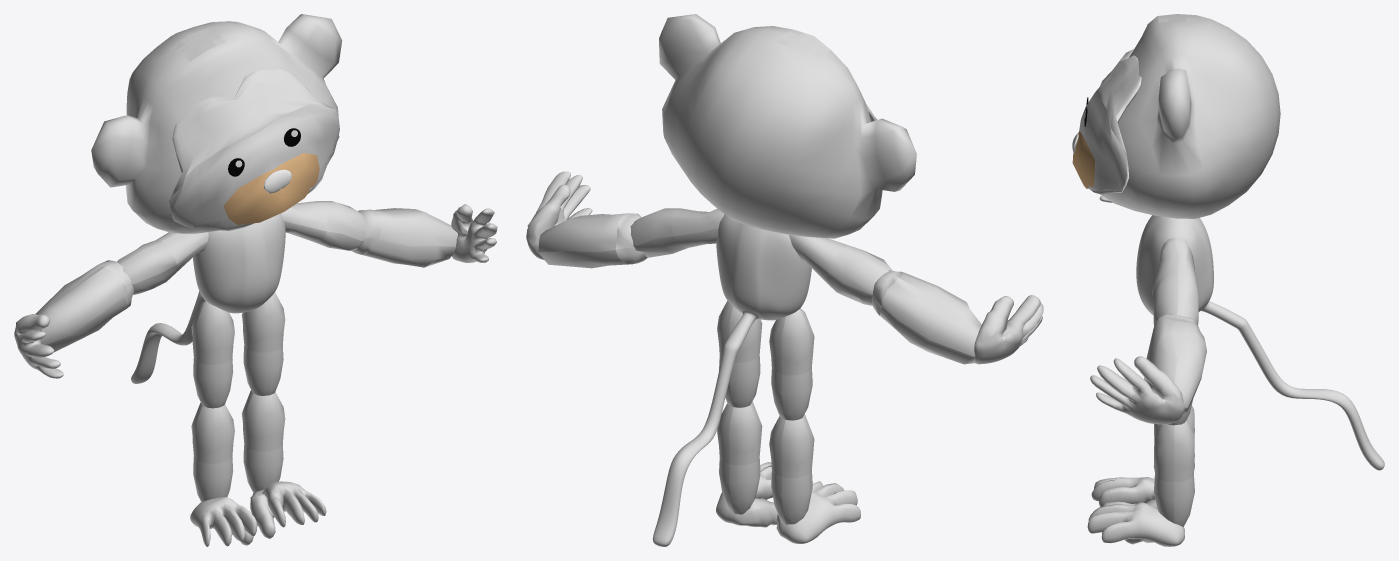
The model's file is Monkey2.fbx.
3 renders of one model, left to right at view 1: azimuth 30°, elevation 25°; view 2: azimuth 150°, elevation 25°; view 3: azimuth 270°, elevation 25°, orthographic. The views are drawn at different scales.
Visible parts, largest first — view 1: Tête, Face, Corps, Avant Bras Gauche, Avant Bras Droit, Jambe Gauche, Jambe Droite Fils, Jambe Gauche Fils, Jambe Droite, Museau, Bras Droit, Bras Gauche (+4 smaller); view 2: Tête, Corps, Avant Bras Gauche, Avant Bras Droit, Jambe Gauche, Jambe Droite Fils, Jambe Gauche Fils, Bras Gauche, Bras Droit, Main Gauche, Jambe Droite, Pied Gauche (+2 smaller); view 3: Tête, Corps, Face, Main Droite, Jambe Droite Fils, Avant Bras Droit, Pied Droit, Bras Droit, Pied Gauche, Museau.
Boxes of the visible parts, <box> form: Tête: <box>91,14,342,233</box>; Face: <box>168,68,339,230</box>; Corps: <box>131,213,285,383</box>; Avant Bras Gauche: <box>35,260,134,352</box>; Avant Bras Droit: <box>352,208,457,267</box>; Jambe Gauche: <box>191,300,234,408</box>; Jambe Droite Fils: <box>242,390,285,492</box>; Jambe Gauche Fils: <box>191,402,234,502</box>; Jambe Droite: <box>242,292,285,395</box>; Museau: <box>223,153,319,224</box>; Bras Droit: <box>281,201,365,250</box>; Bras Gauche: <box>117,232,208,294</box>; Tête: <box>659,14,916,238</box>; Corps: <box>652,214,811,546</box>; Avant Bras Gauche: <box>871,270,981,364</box>; Avant Bras Droit: <box>538,213,647,268</box>; Jambe Gauche: <box>769,308,814,420</box>; Jambe Droite Fils: <box>717,402,762,514</box>; Jambe Gauche Fils: <box>769,414,814,524</box>; Bras Gauche: <box>789,235,892,305</box>; Bras Droit: <box>630,208,724,257</box>; Main Gauche: <box>973,295,1043,364</box>; Jambe Droite: <box>717,300,762,407</box>; Pied Gauche: <box>776,481,860,543</box>; Tête: <box>1100,14,1280,218</box>; Corps: <box>1136,215,1384,470</box>; Face: <box>1079,49,1141,194</box>; Main Droite: <box>1090,356,1184,424</box>; Jambe Droite Fils: <box>1153,420,1194,526</box>; Avant Bras Droit: <box>1144,313,1206,414</box>; Pied Droit: <box>1087,501,1184,546</box>; Bras Droit: <box>1152,237,1198,325</box>; Pied Gauche: <box>1091,477,1157,508</box>; Museau: <box>1072,131,1094,188</box>.
Size of the model in its own units: 580 by 585 by 325.
